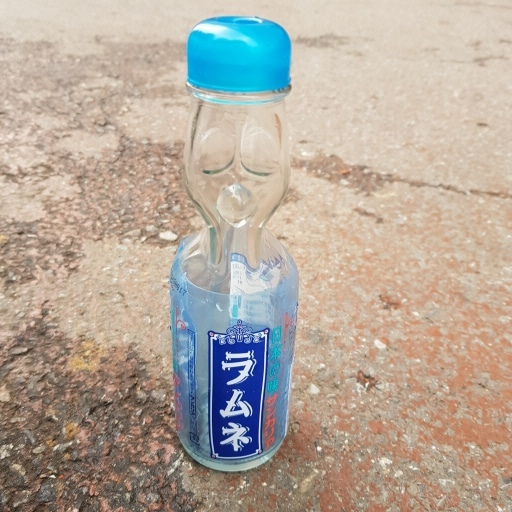Glass_4: (172, 13, 302, 474)
